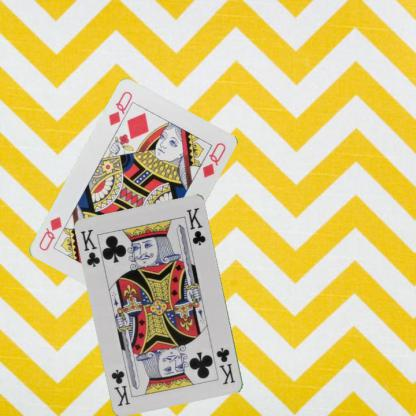Kc: (78, 226, 102, 269), (214, 345, 237, 386)
Qd: (106, 89, 135, 133)
